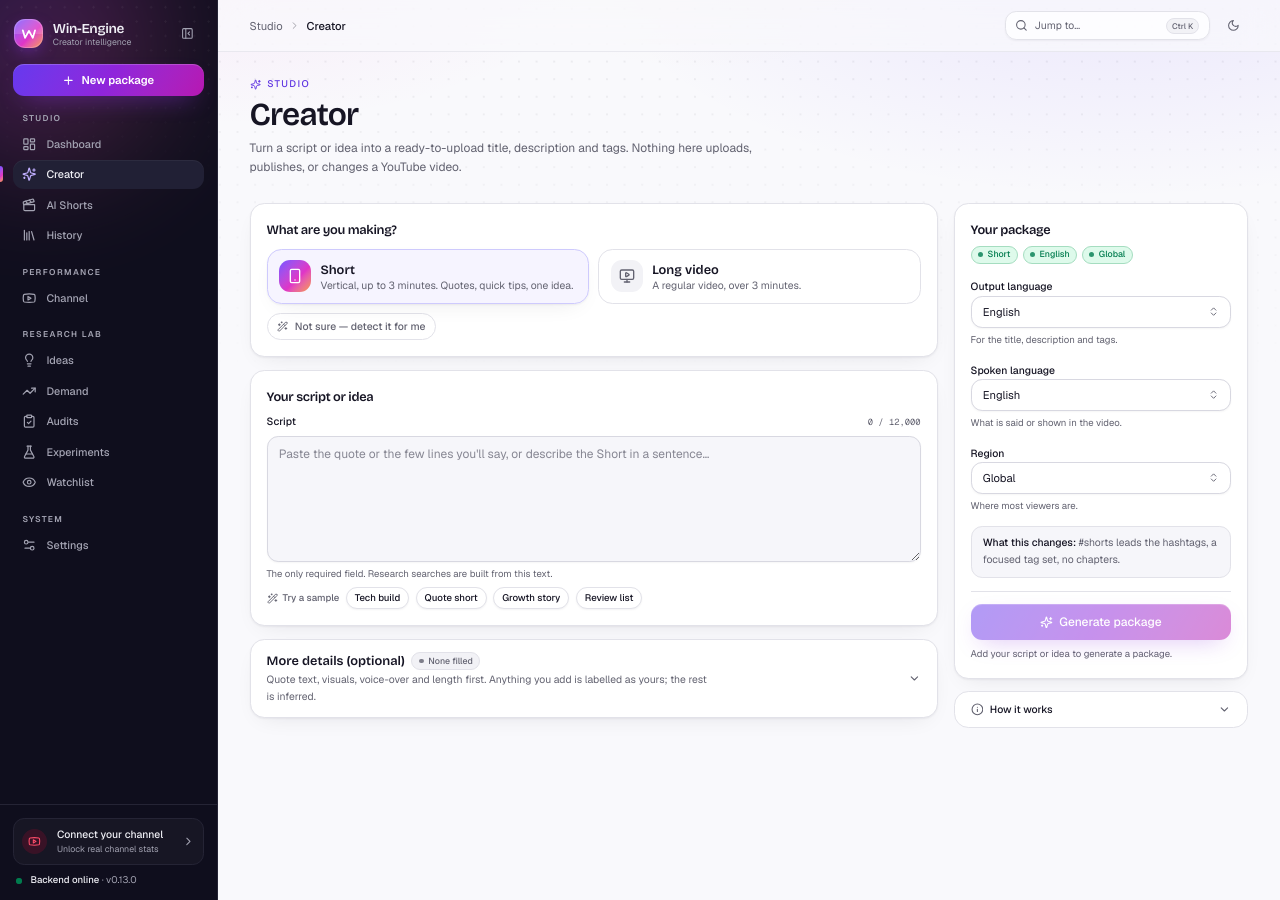
Test: App shell › jumps between pages from the command palette
Expected: the heading "Creator" is shown, [250,95,358,134]
Type keys "{Control>}k{/Control}"
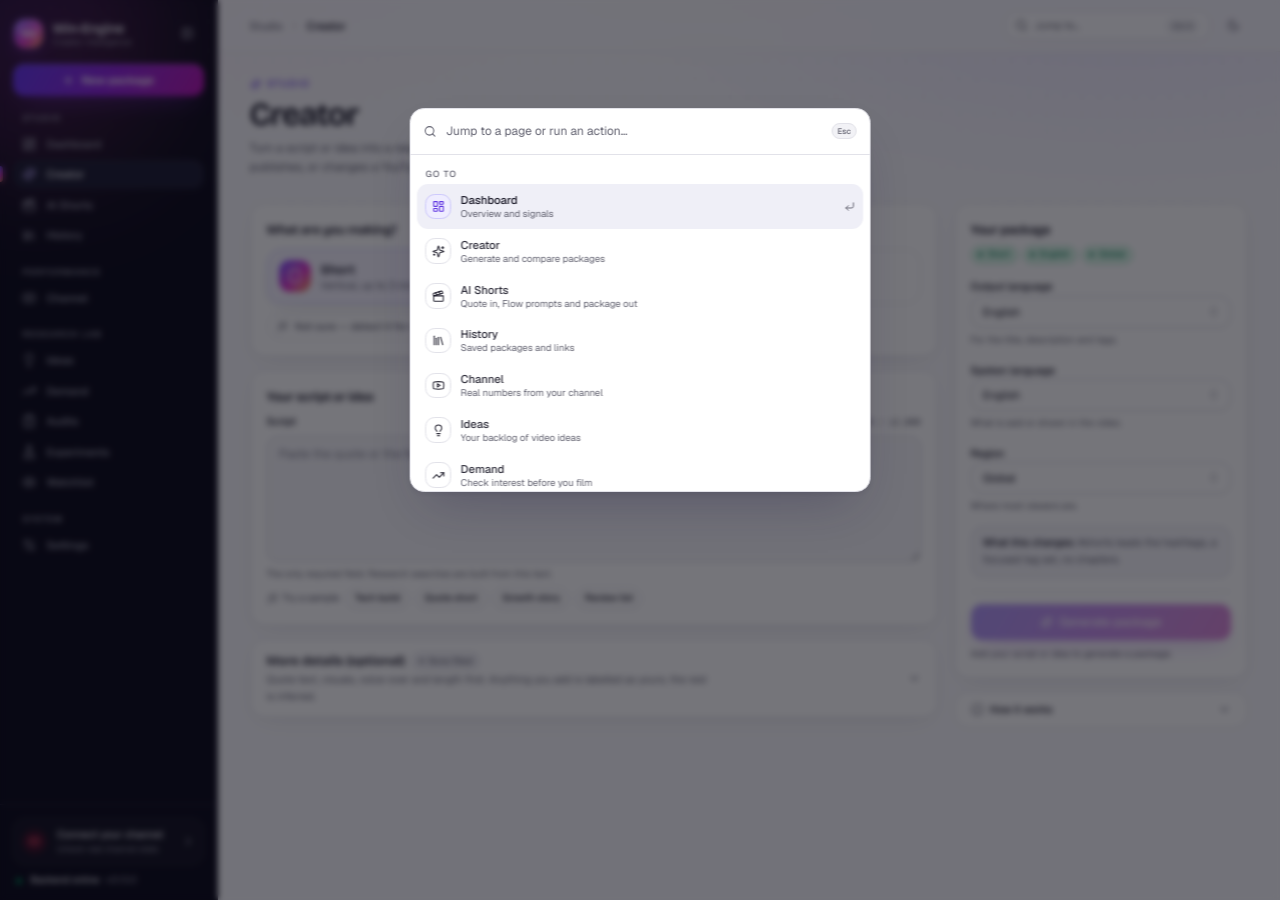
In the dropdown named "Search pages and actions": (634, 131) [446,109,822,154], type "history"
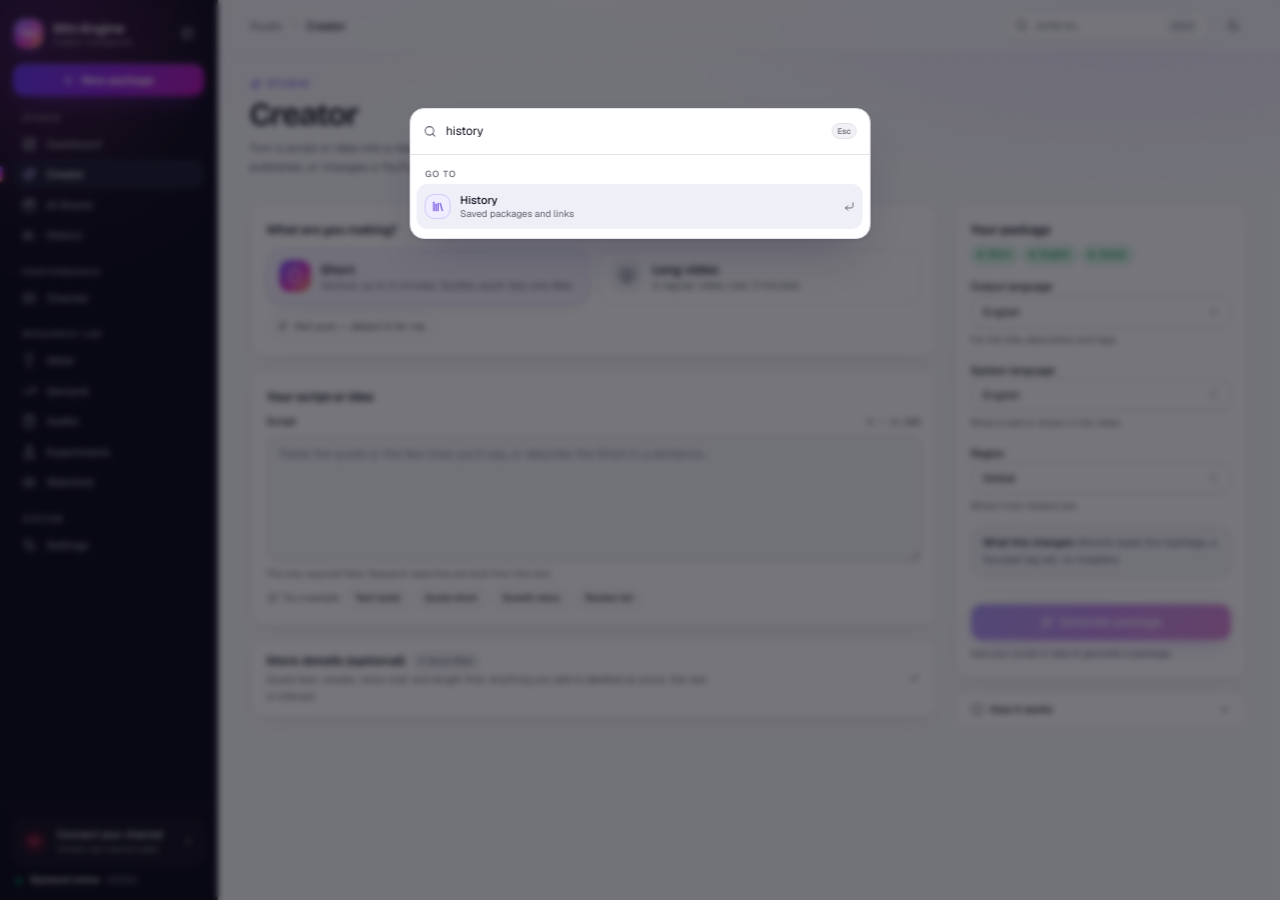
Press Enter
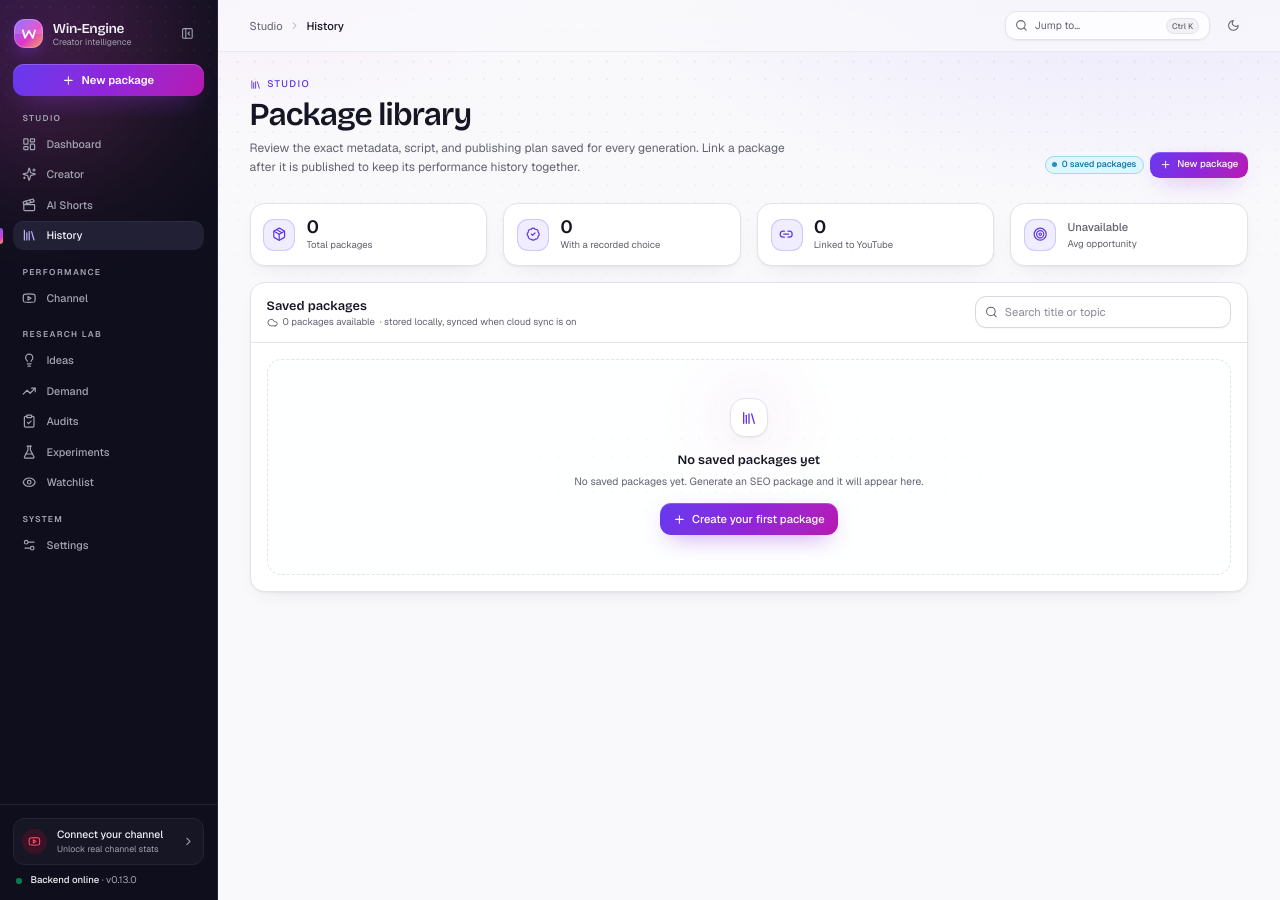
Expected: the dropdown labelled "Search pages and actions" is not shown
Result: the heading "Package library" is shown at [250,95,471,134]
